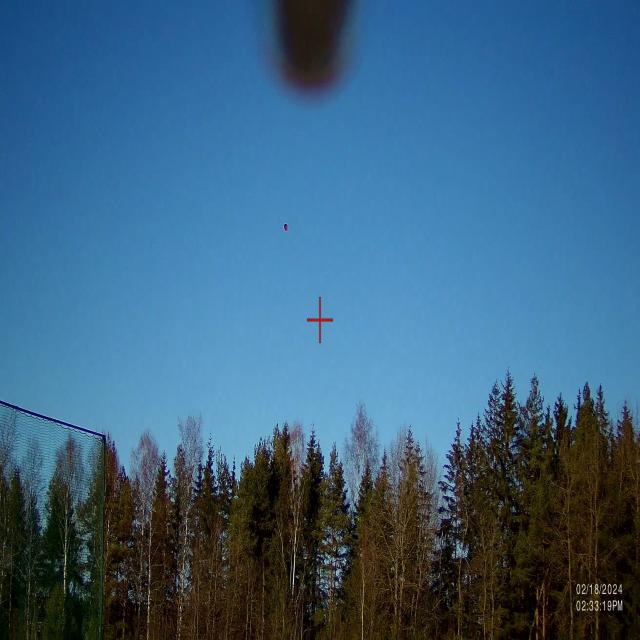entire: (279, 223, 295, 235)
